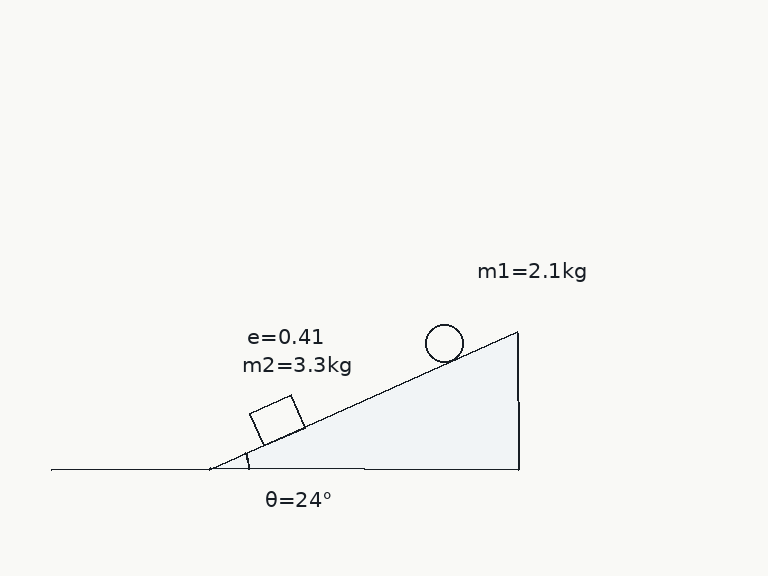ball: (423, 322, 465, 364)
block: (247, 393, 307, 447)
ramp: (207, 330, 520, 471)
